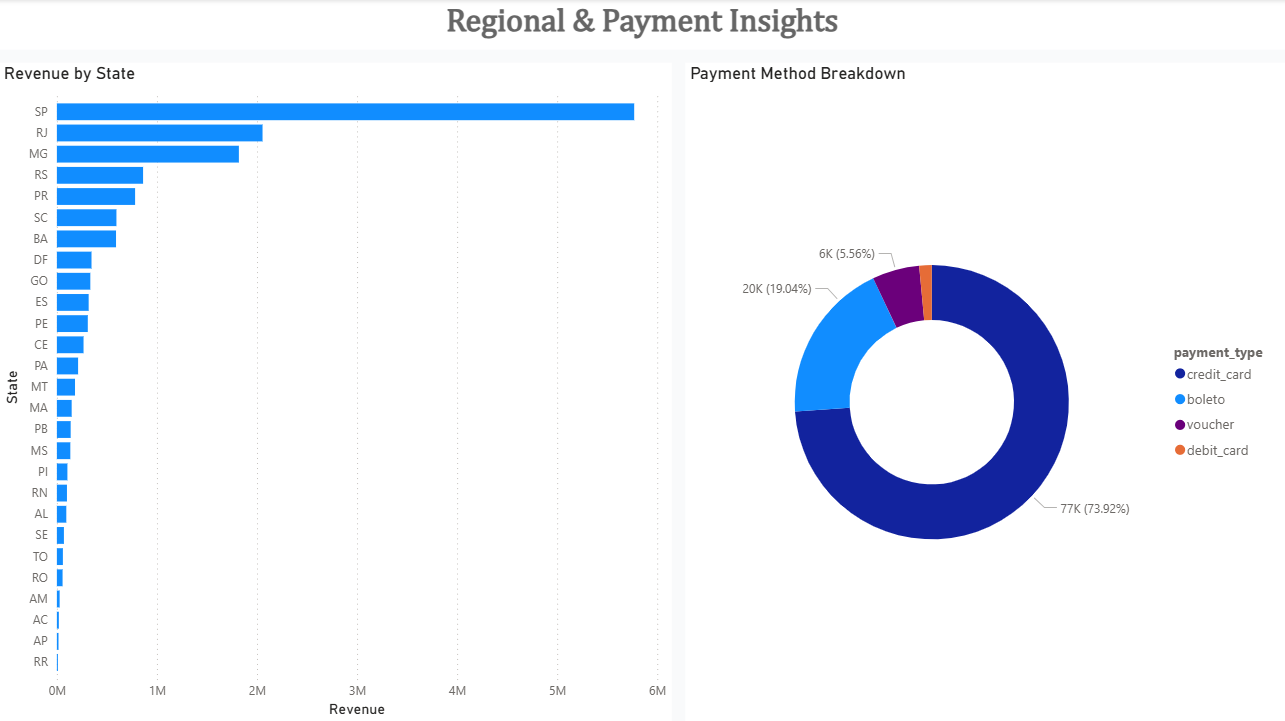

The dashboard page shown, as its layout file describes it:
{"tool":"powerbi","page":{"name":"Regional & Payment Insights","canvas":[1280,720],"ordinal":1},"visuals":[{"type":"textbox","box":[0,0,1280.3,50.8],"z":0},{"type":"clusteredBarChart","title":"Revenue by State","fields":{"Category":["states_revenue.customer_state"],"Y":["Sum(states_revenue.revenue)"]},"box":[0,63.4,669.3,656.8],"z":1},{"type":"donutChart","title":"Payment Method Breakdown","fields":{"Category":["payment_method.payment_type"],"Y":["Sum(payment_method.total_transactions)"]},"box":[682.9,63.4,597.1,656.8],"z":2}]}

Visuals, with their boxes in screenshot pixels (x1, y1, x2, y2), scaled from the page's 1280x720 canvas onto the 1285x721 screenshot:
textbox: {"x1": 0, "y1": 0, "x2": 1284, "y2": 51}
"Revenue by State" clusteredBarChart: {"x1": 0, "y1": 63, "x2": 672, "y2": 720}
"Payment Method Breakdown" donutChart: {"x1": 686, "y1": 63, "x2": 1284, "y2": 720}
